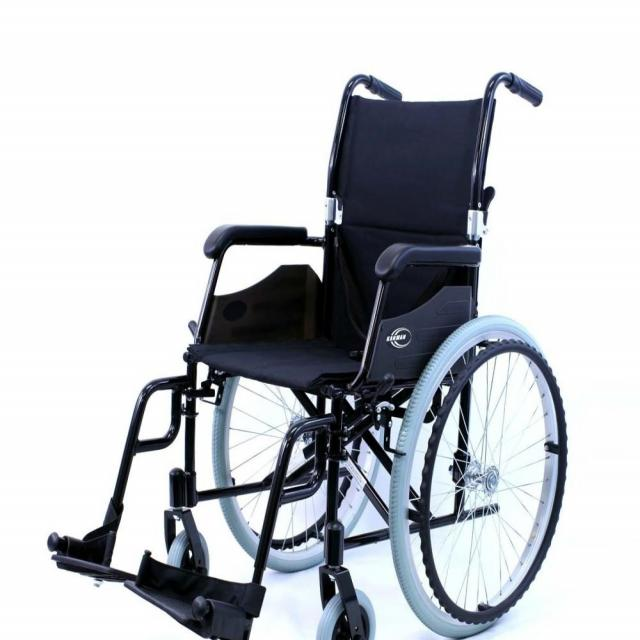wheelchair: (33, 55, 587, 640)
